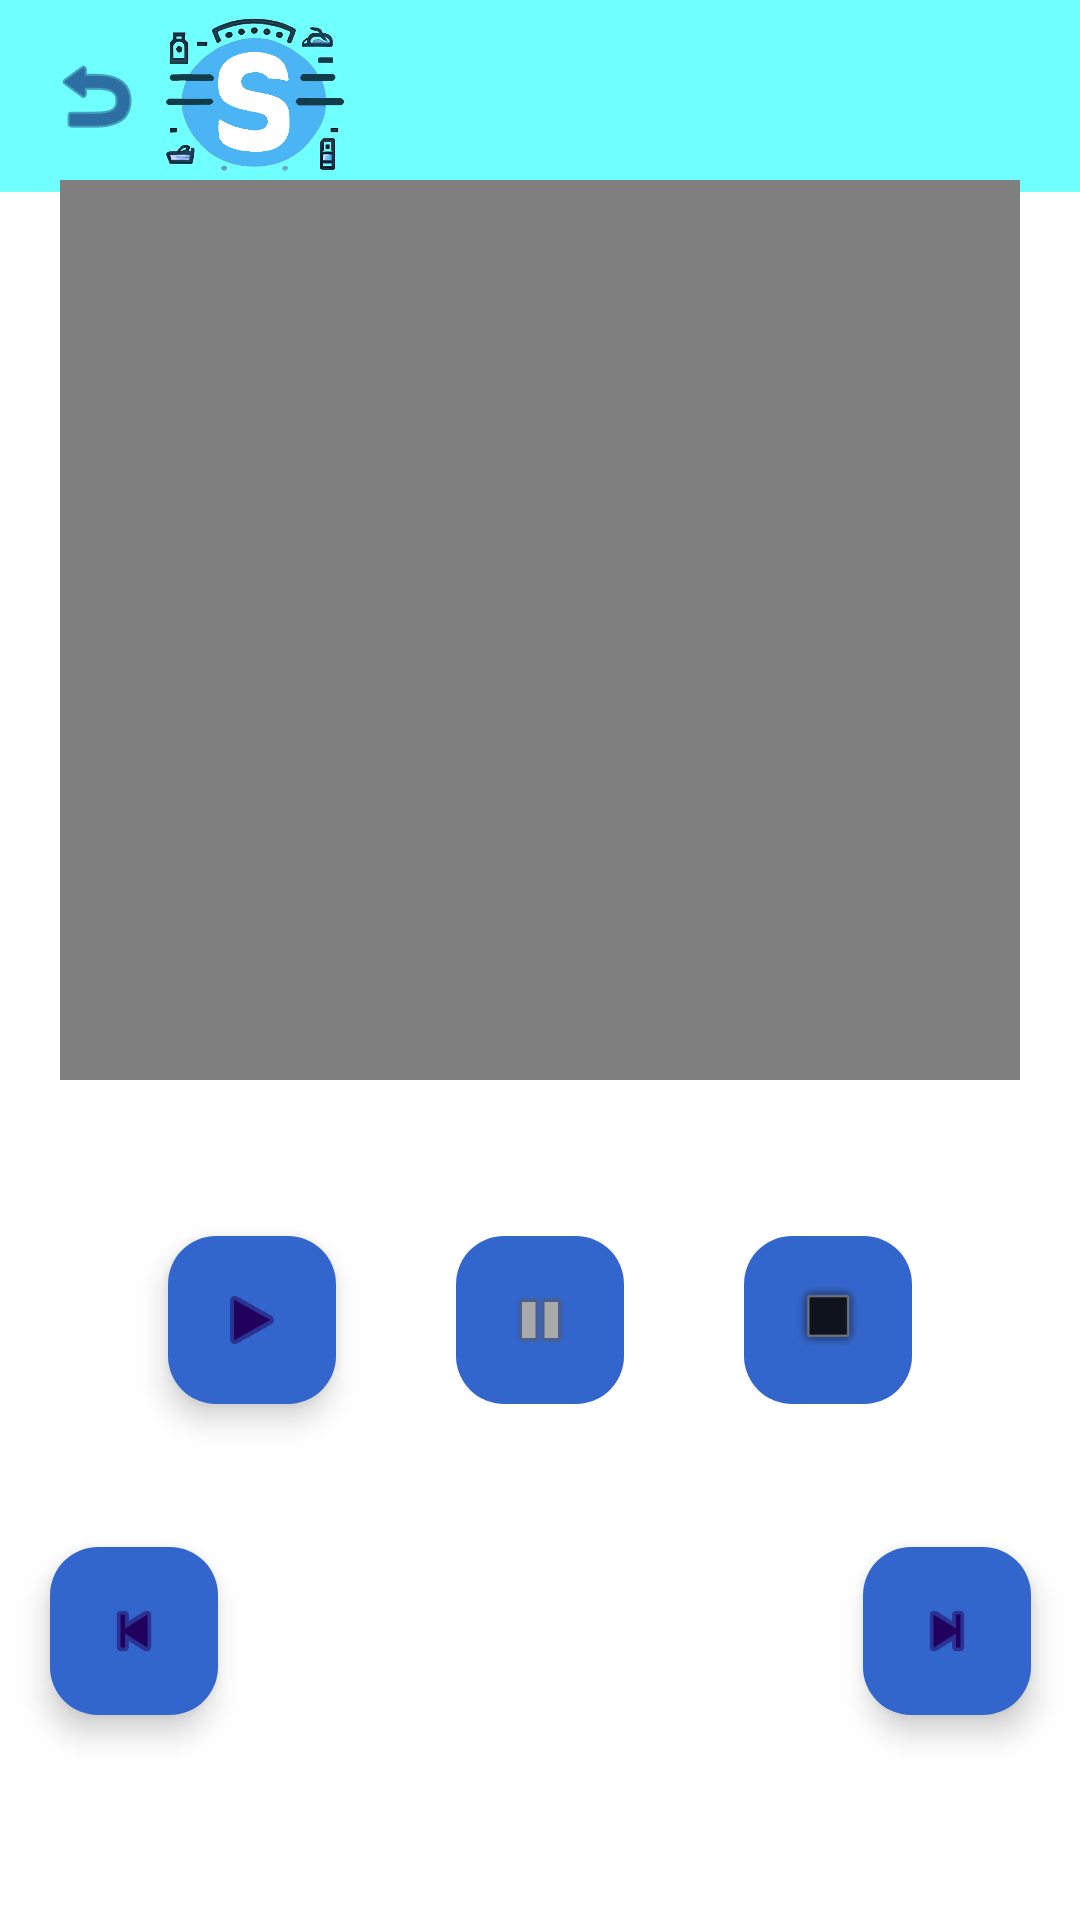

Icon click points for this 1080 x 1920 phone screenshot, format (x,y):
next: (947,1631)
pause: (540,1320)
play: (252,1320)
previous: (134,1631)
revert: (97,96)
